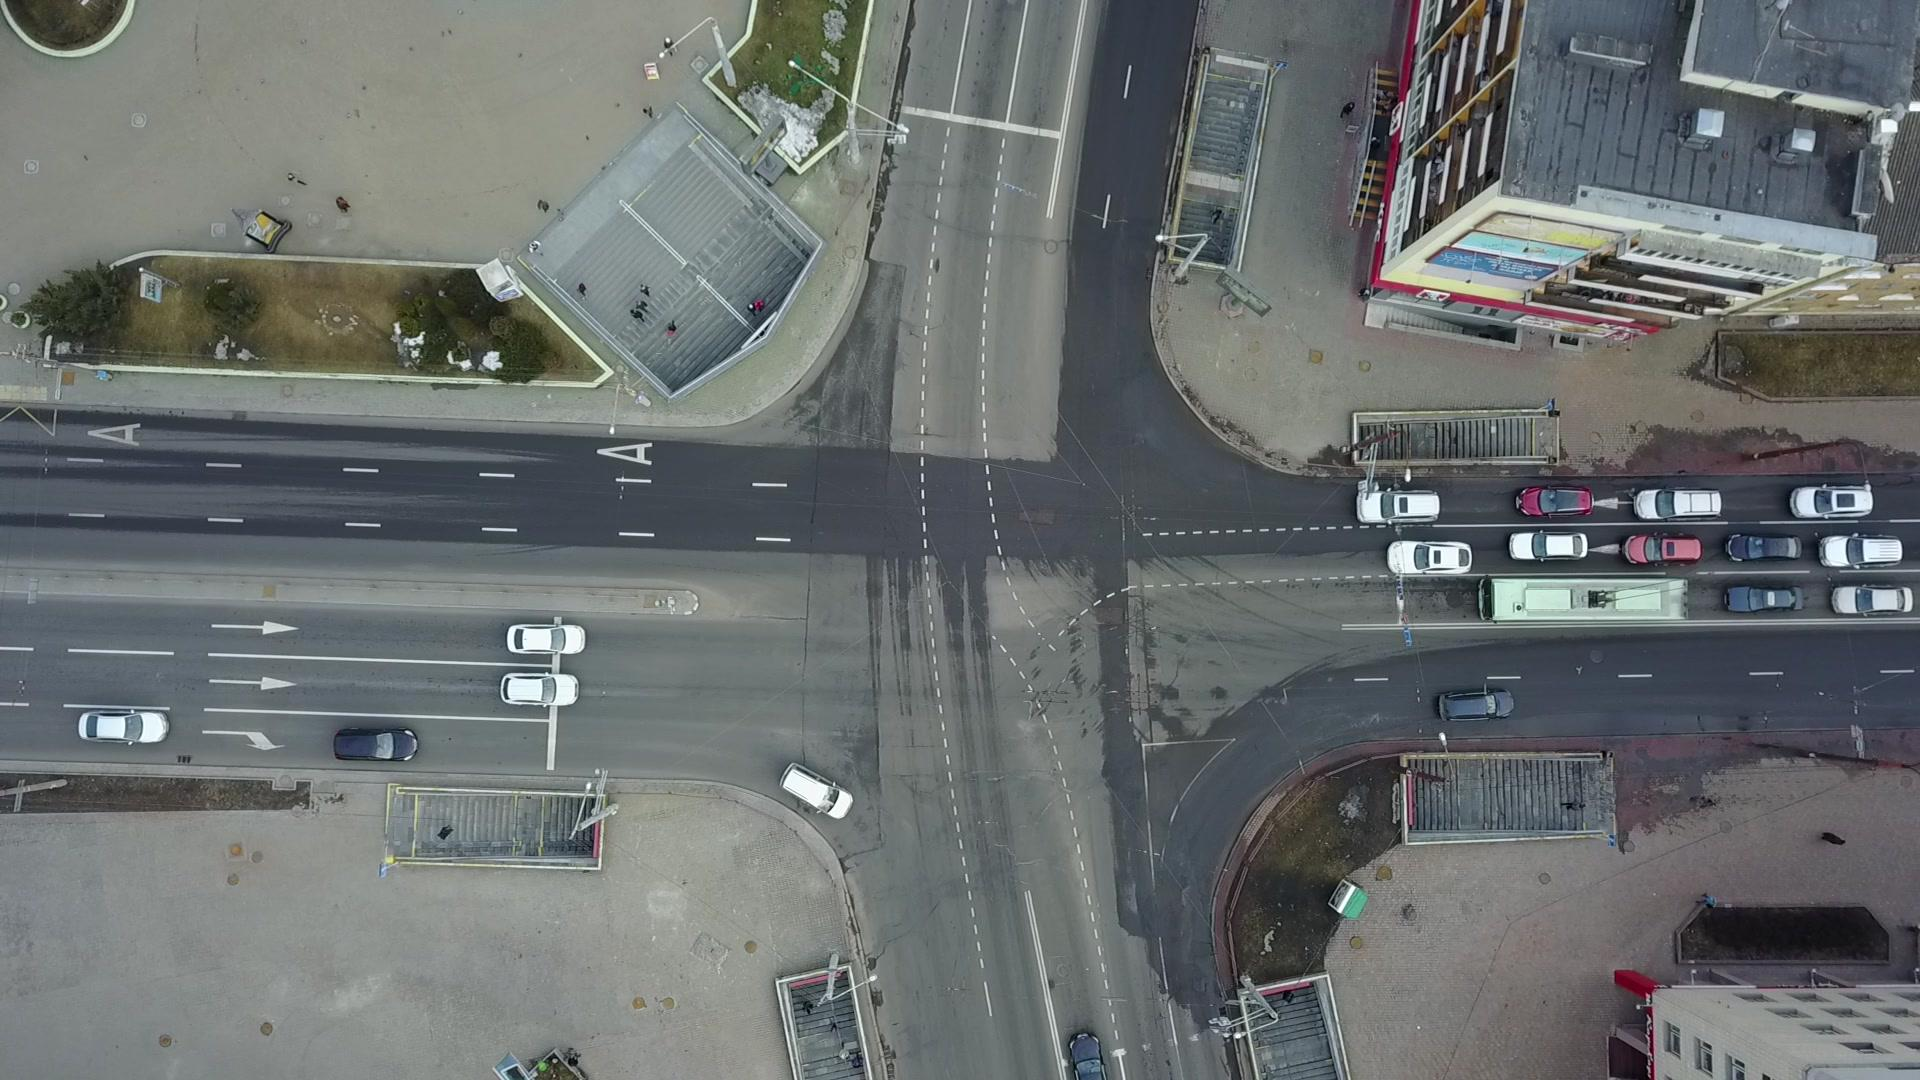car: (777, 761, 855, 819), (76, 705, 171, 746), (328, 725, 419, 764), (1631, 485, 1722, 524), (498, 669, 582, 709), (1817, 531, 1904, 570), (1385, 538, 1474, 575), (1789, 483, 1874, 520), (505, 620, 587, 657), (1356, 488, 1440, 524), (1515, 483, 1594, 520), (1509, 527, 1589, 563), (1830, 583, 1913, 617), (1621, 531, 1702, 564), (1724, 531, 1803, 562), (1722, 584, 1805, 612)
